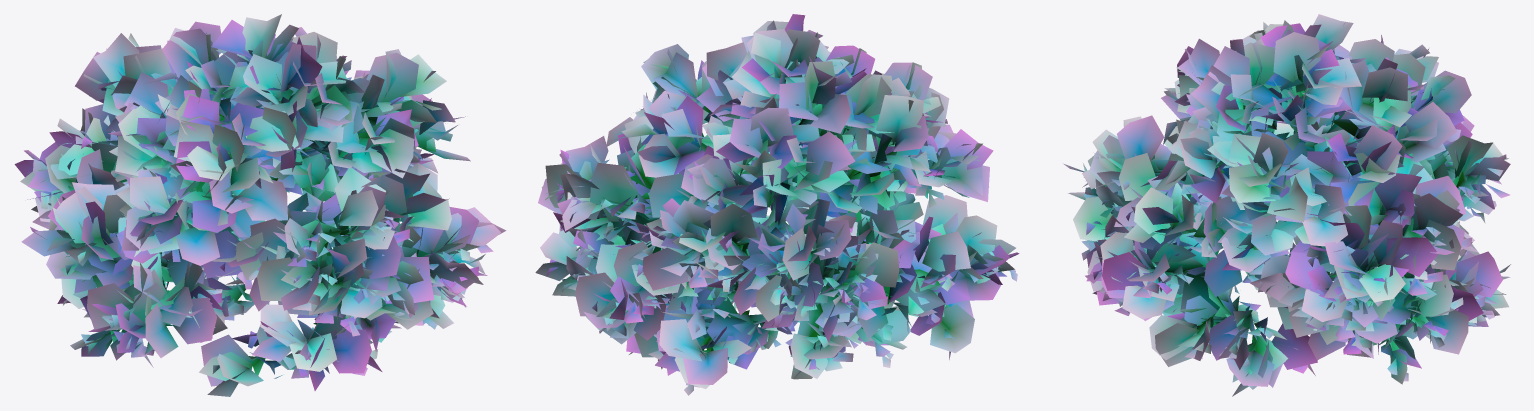
Rendered from leaves.gltf.
The picture shows the model from 3 angles, left to right: view 1: azimuth 30°, elevation 25°; view 2: azimuth 150°, elevation 25°; view 3: azimuth 270°, elevation 25°; orthographic projection. The views are drawn at different scales.
Visible parts, largest first — view 1: geo1; view 2: geo1; view 3: geo1.
Part boxes in pixels (x1,y1,x2,y2): geo1: (14, 14, 506, 396); geo1: (535, 14, 1019, 395); geo1: (1063, 14, 1510, 396).
Bounding box in the file's own units: 17.05 × 12.61 × 16.78.
